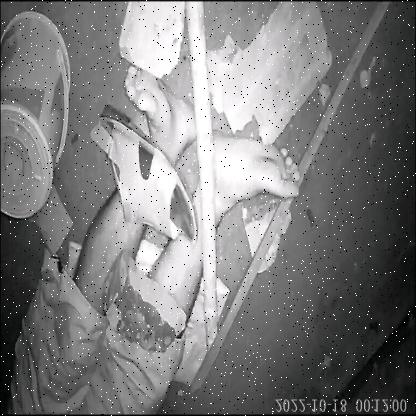leg: (194, 122, 306, 230), (121, 63, 204, 171)
